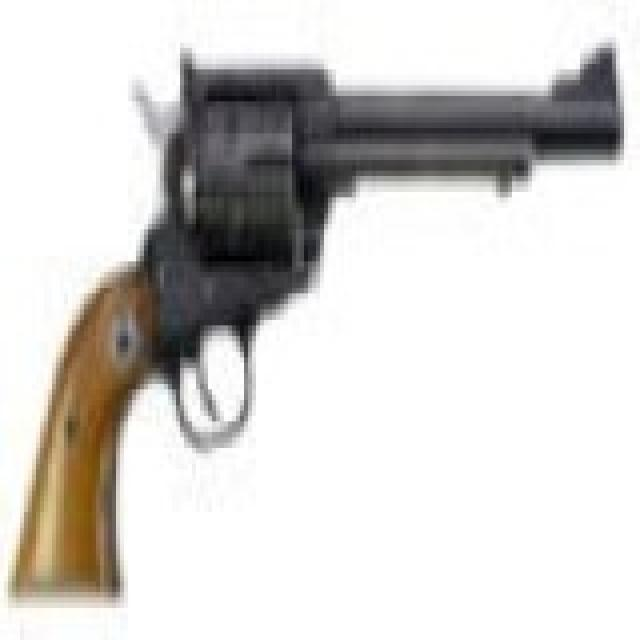Gun: (2, 18, 624, 610)
